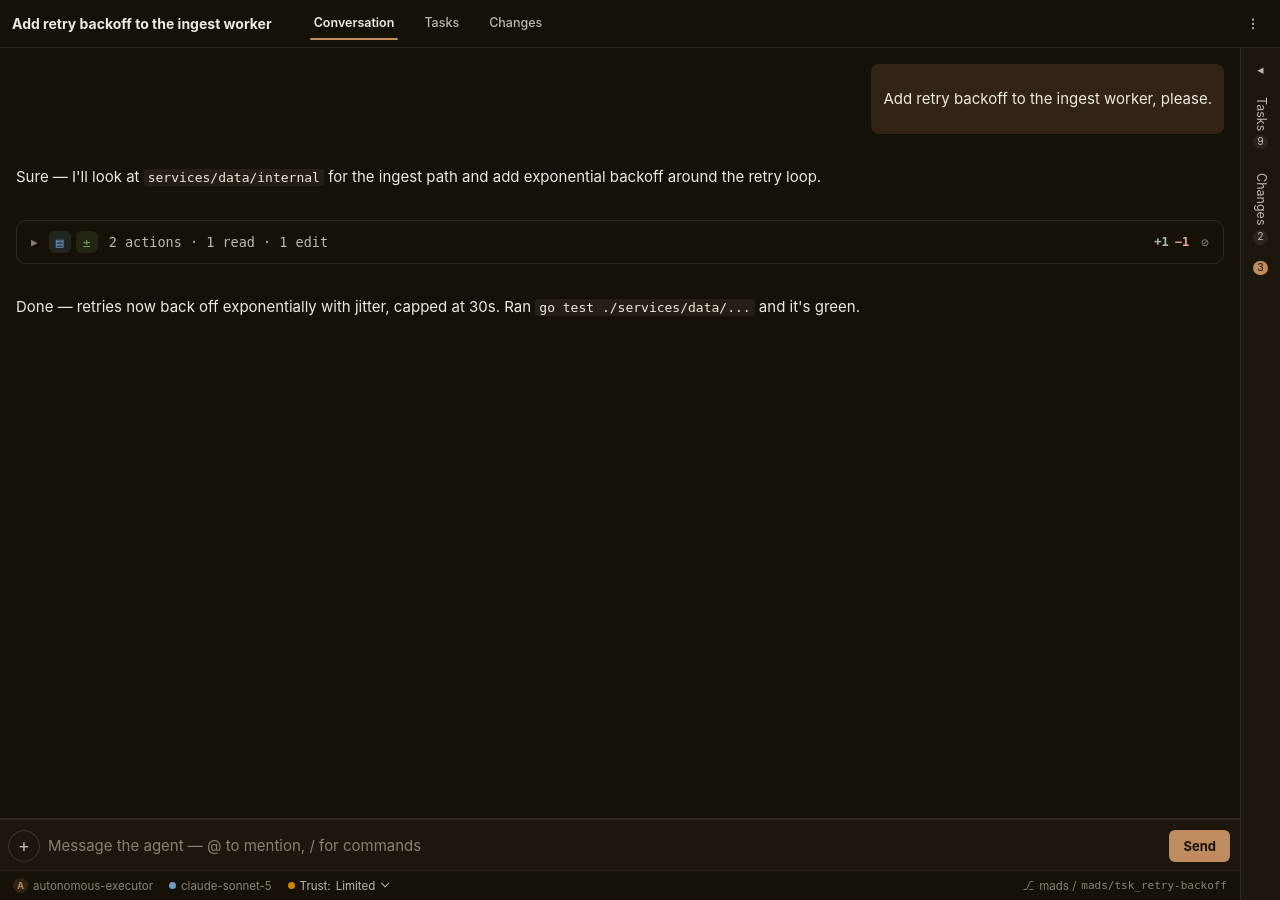
Scenario: SessionWorkspace › Restart Agent failure surfaces in the action-error toast rather than being swallowed
This screenshot has width=1280, height=900.
Click the button named "Workspace actions". click: (1253, 24)
box: [1238,10,1268,36]
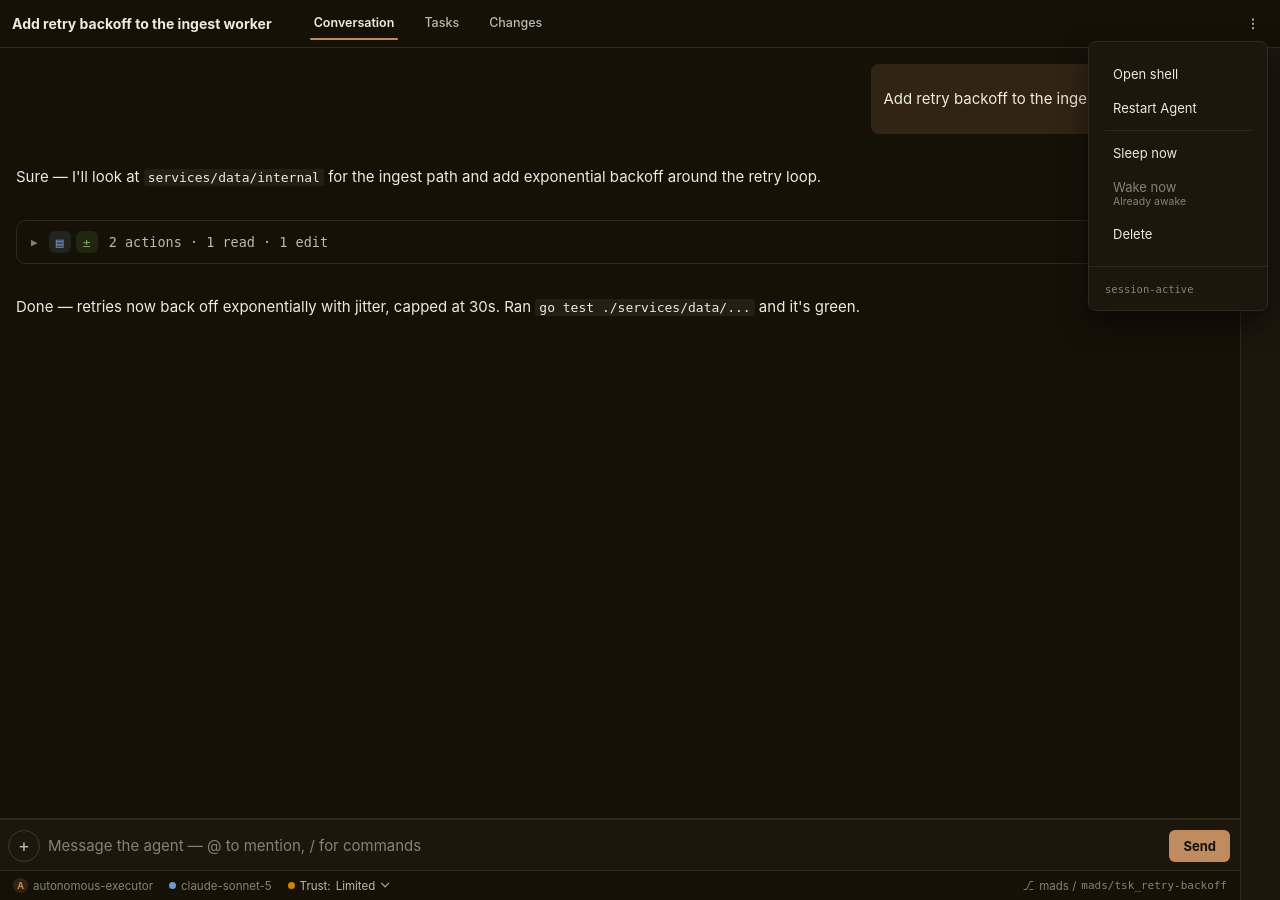
Click the button "Restart Agent". click: (1178, 108)
box: [1105,92,1251,124]
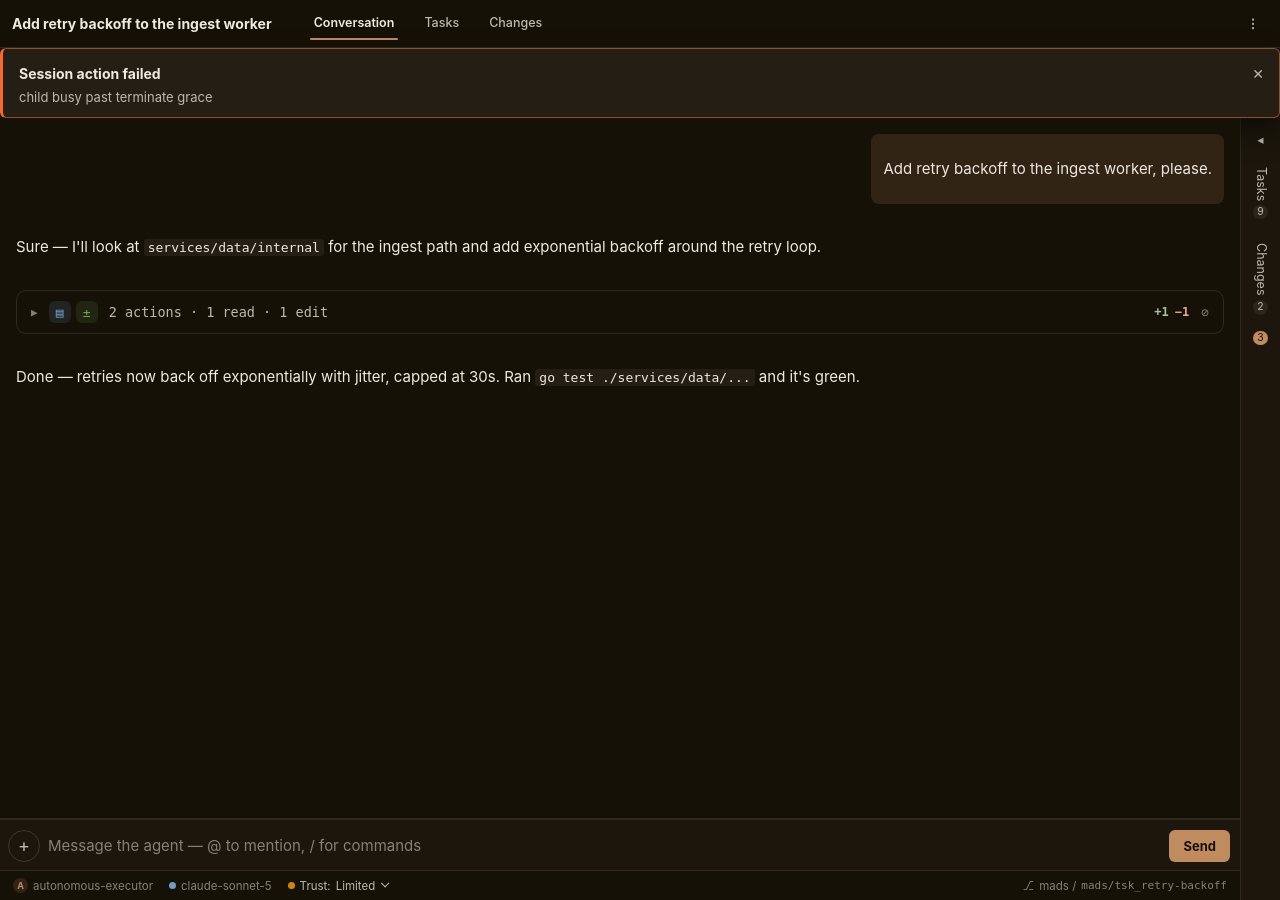
Expected: the text "Session action failed" is shown, [19,65,161,82]
Expected: the text "child busy past terminate grace" is shown, [19,89,212,105]
